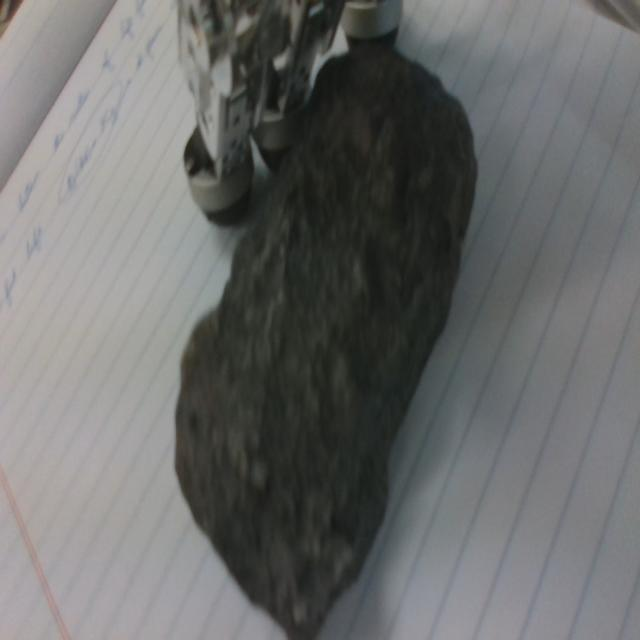stone: (175, 40, 479, 640)
